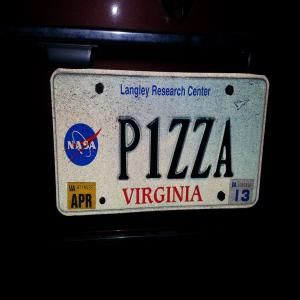Vehicle-registration-plate: (50, 65, 266, 216)
